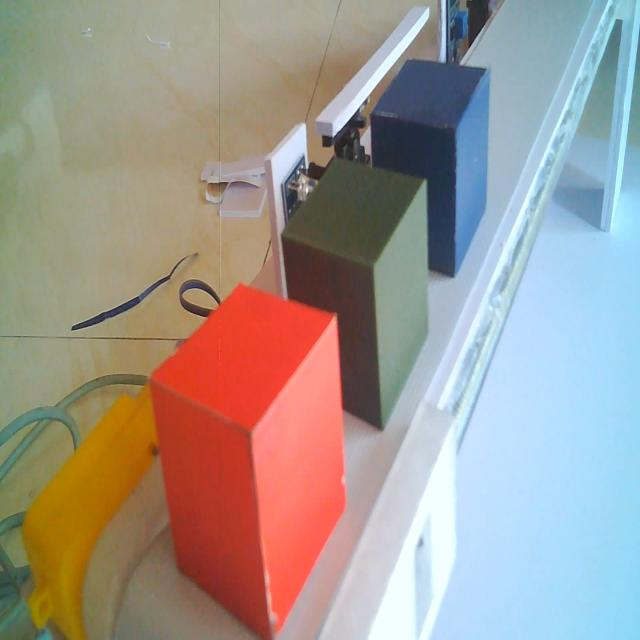blue: (367, 55, 490, 282)
green: (280, 154, 431, 431)
red: (148, 278, 348, 634)
